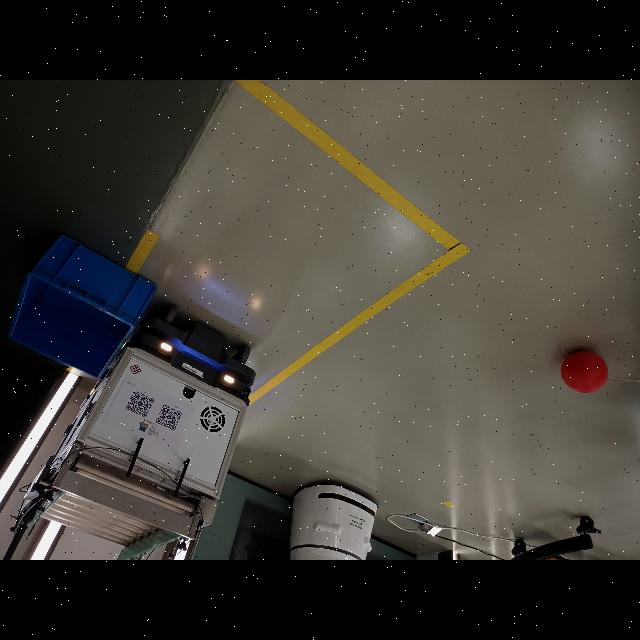R: (561, 350, 609, 392)
